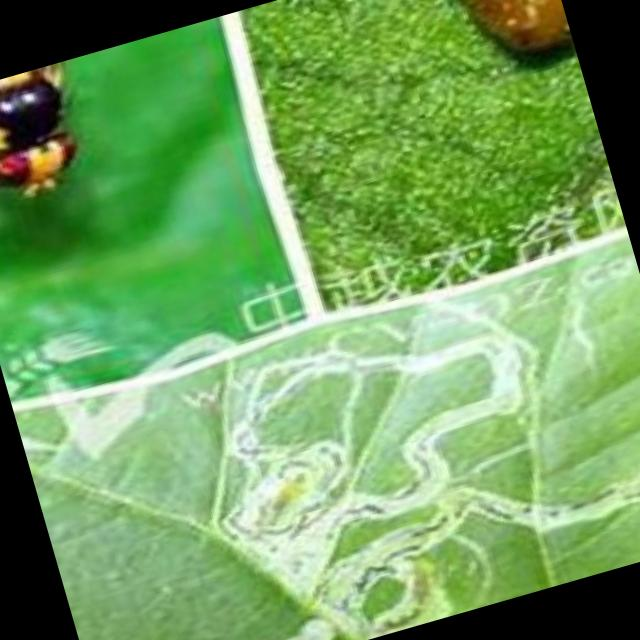whorl-maggot: (426, 0, 577, 89)
